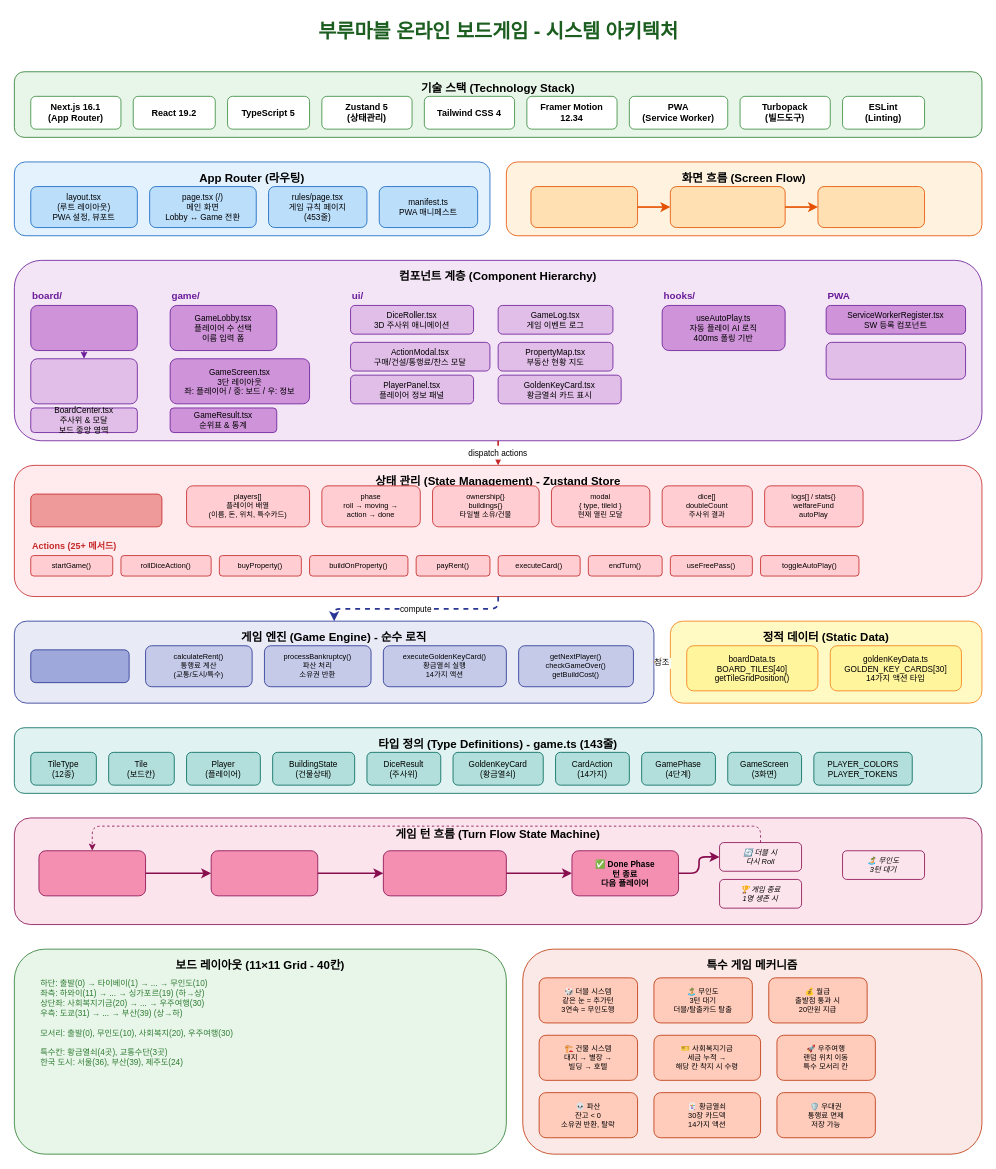
The diagram is 996 pixels wide and 1169 high, and some of its shapes have lost their labels. The centre of each missing label's shape, as x and y in pixels:
"Board.tsx 11×11 CSS Grid 보드판 렌더링" belongs at (83,328).
"gameEngine.ts (500+ 줄)" belongs at (79,666).
"gameStore.ts (832줄) 중앙 상태 저장소" belongs at (96,510).
"sw.js (public/) 캐시 전략 오프라인 지원" belongs at (895,360).
"Tile.tsx 40개 타일 표시 소유권/건물/토큰" belongs at (83,381).
"⚡ Action Phase 구매/건설/통행료 황금열쇠/특수칸" belongs at (444,873).
"🎮 GameLobby 플레이어 설정 (2~4명)" belongs at (584,207).
"🎲 GameScreen 메인 게임 화면 (3단 레이아웃)" belongs at (727,207).
"🎲 Roll Phase 주사위 굴리기 더블 체크" belongs at (92,873).
"🏆 GameResult 게임 결과 순위 & 통계" belongs at (871,207).
"🚶 Moving Phase 말 이동 월급 체크" belongs at (264,873).
